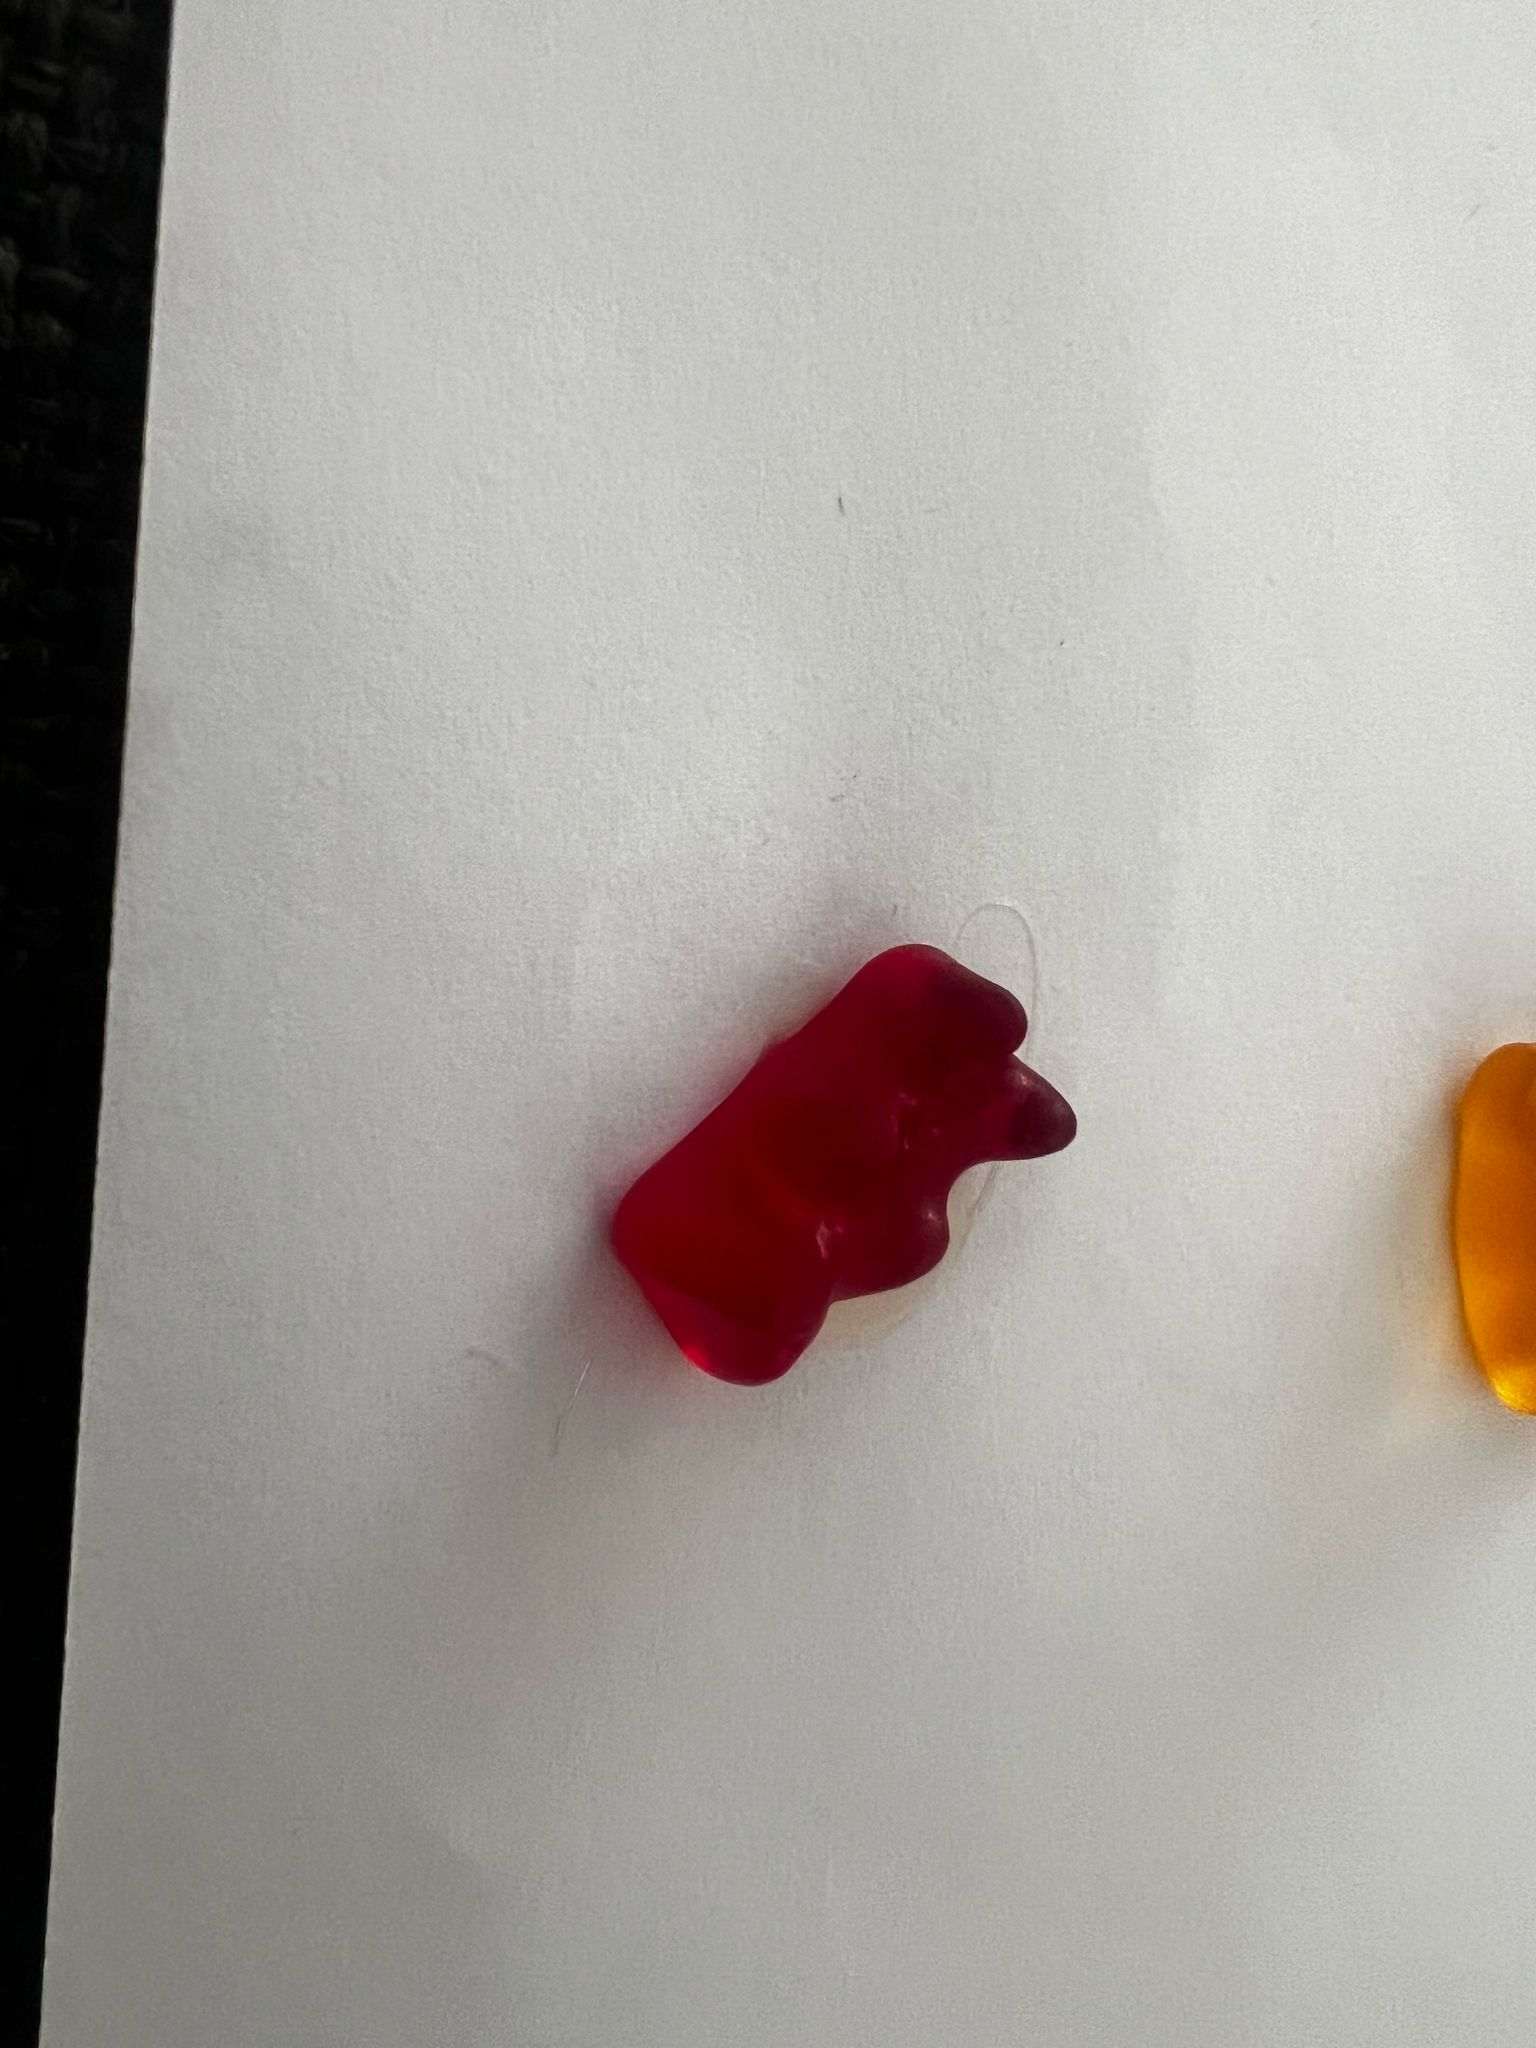gummybear: (599, 927, 1088, 1395)
